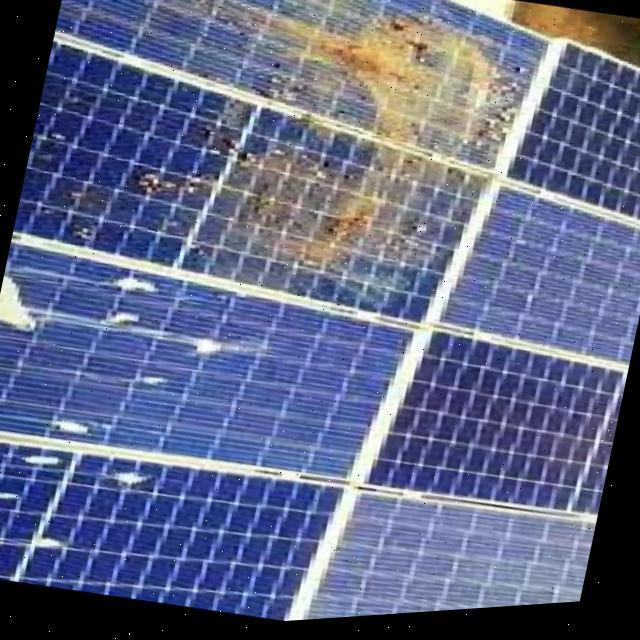Anomaly Solar Panel: (11, 0, 559, 338)
Surface Contaminant: (58, 0, 544, 179), (122, 97, 487, 320), (53, 180, 128, 212), (61, 224, 101, 243)
